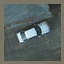car: (15, 22, 51, 44)
